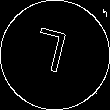L_S: (34, 27, 76, 83)
